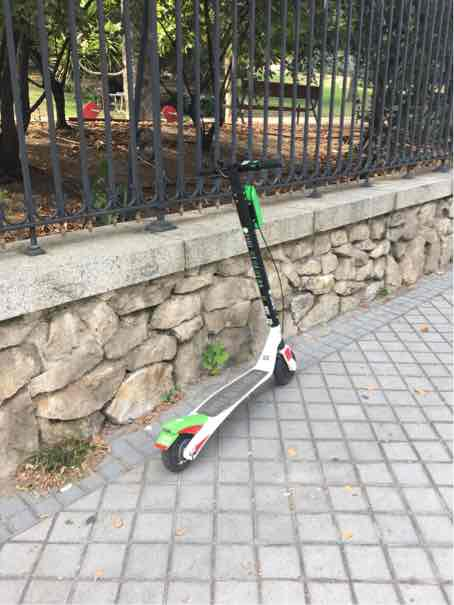scooter: (146, 145, 304, 477)
